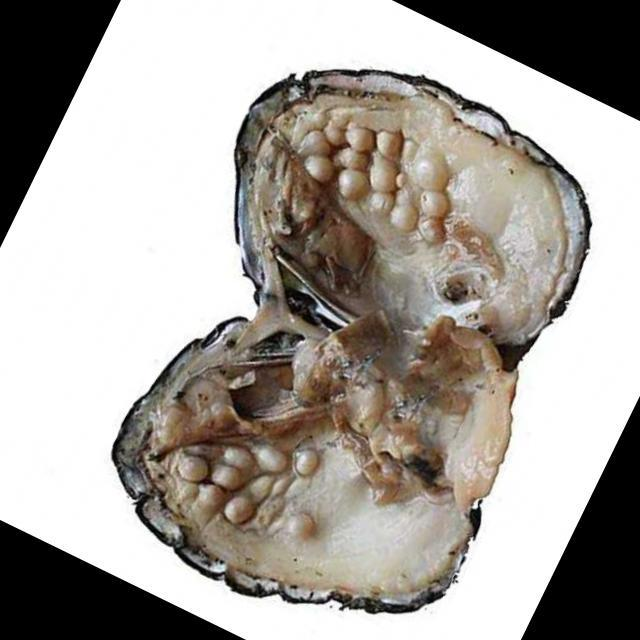Oyster-Open: (39, 51, 637, 601)
